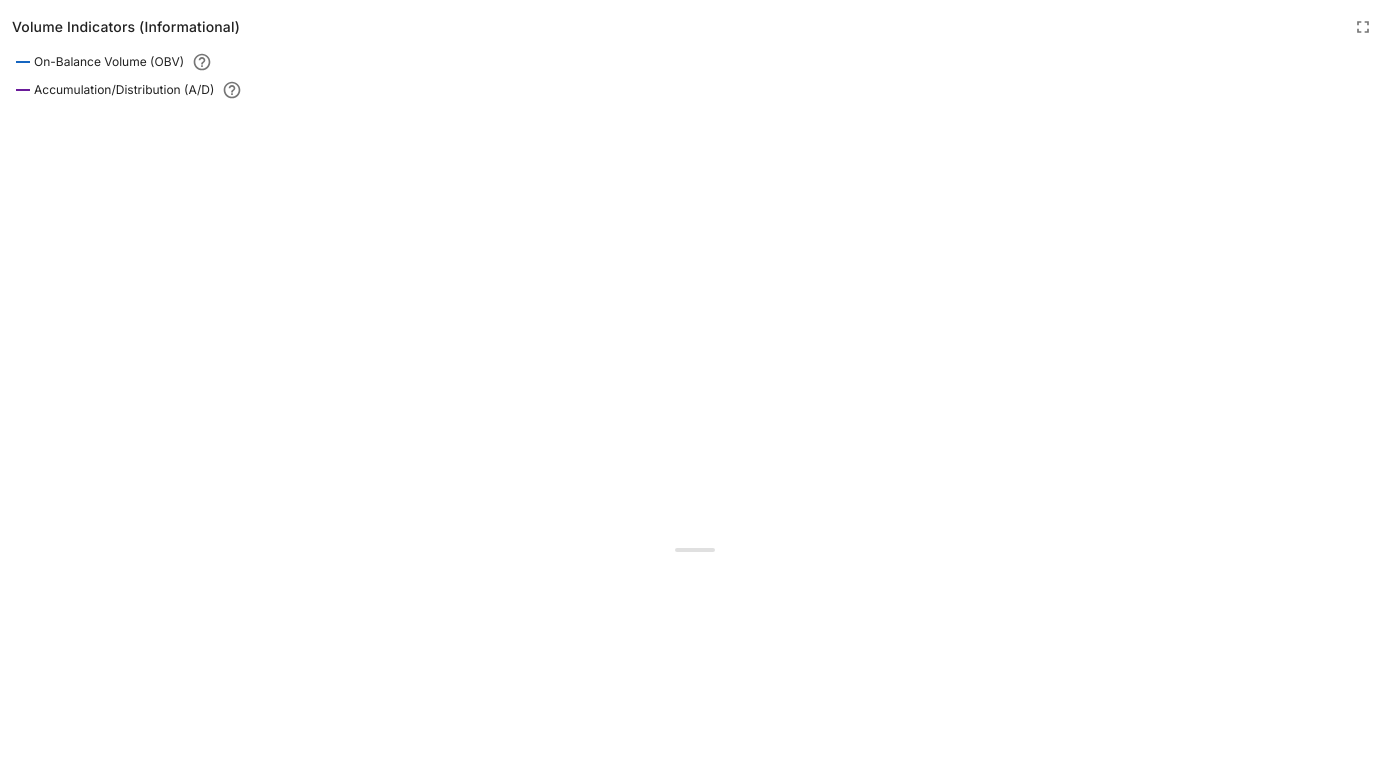
Test: VolumeIndicatorsChart › opens the OBV MetricHelp balloon warning the raw number is meaningless and describing the current pattern
This screenshot has width=1390, height=780.
Click the button named "On-Balance Volume (OBV) help" at (202,62), box top-left (192, 52), bottom-right (212, 72)
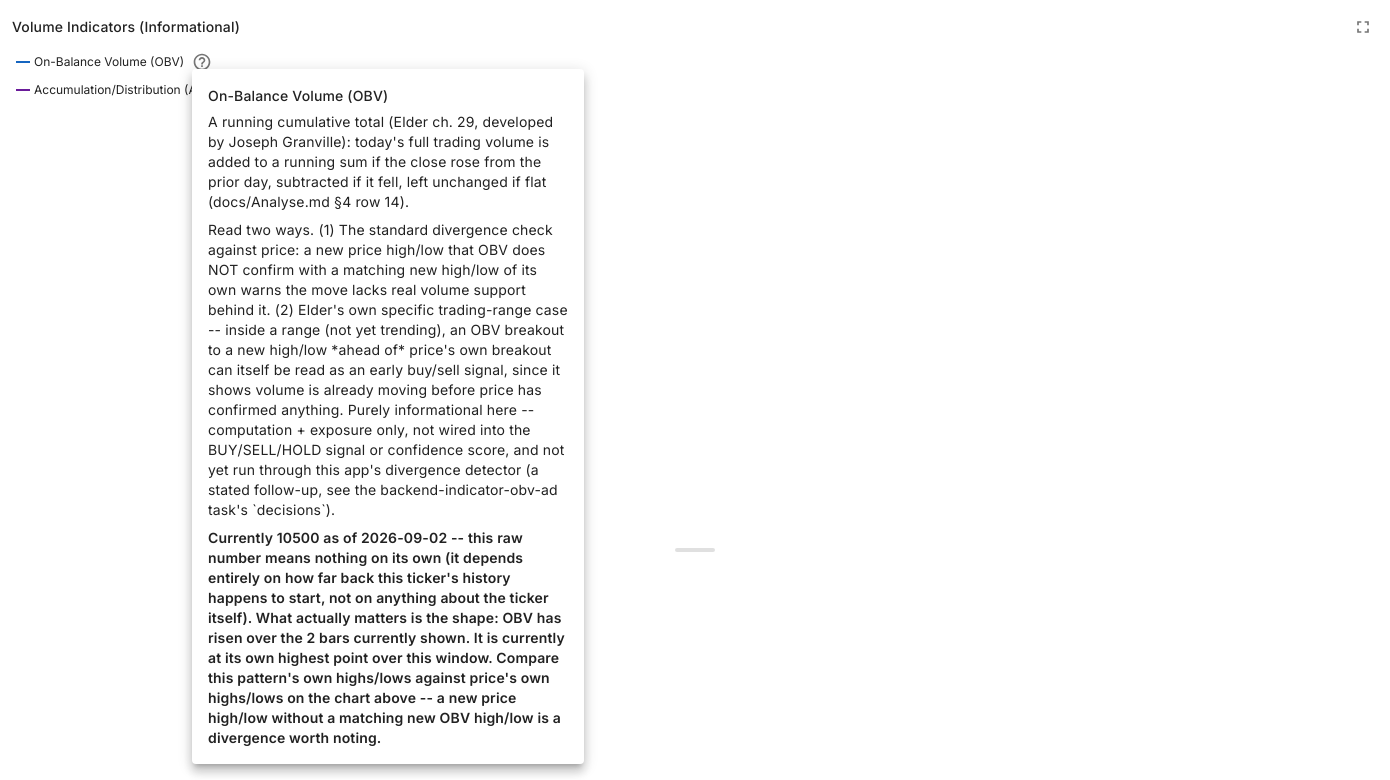
Now the text "at its own highest point" is shown, box top-left (208, 529), bottom-right (565, 746)
